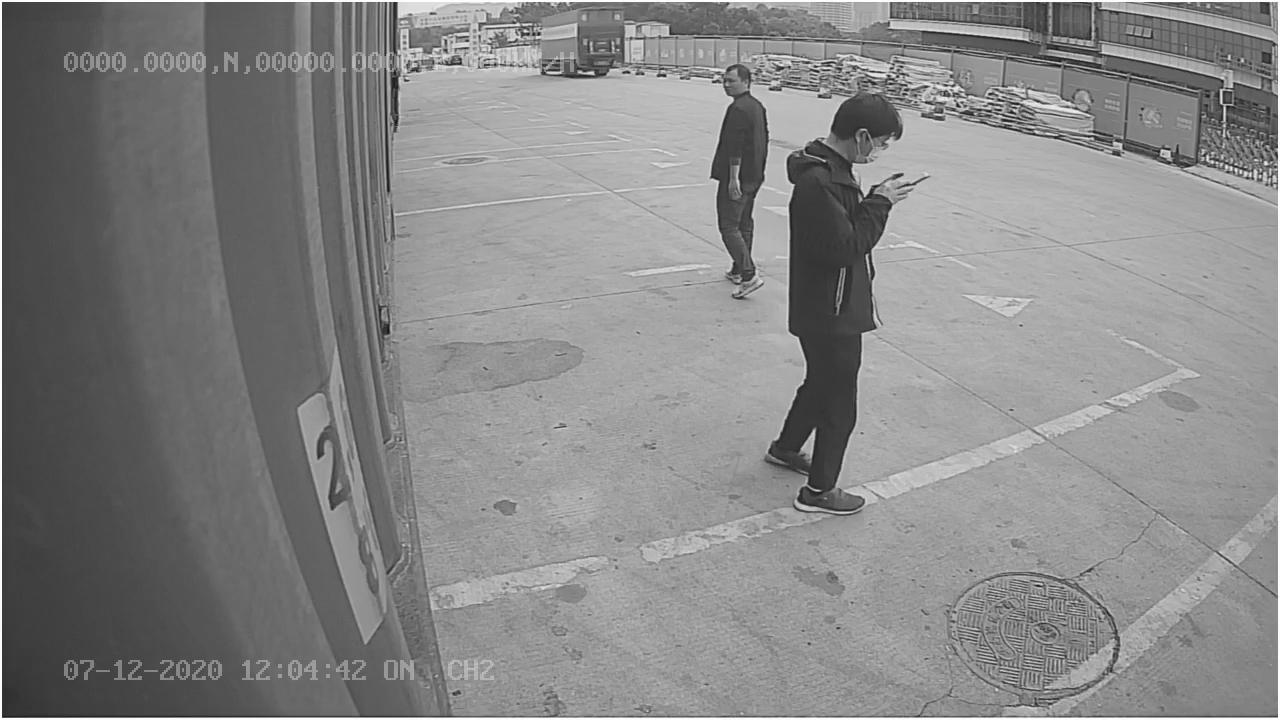person: (768, 82, 911, 523)
